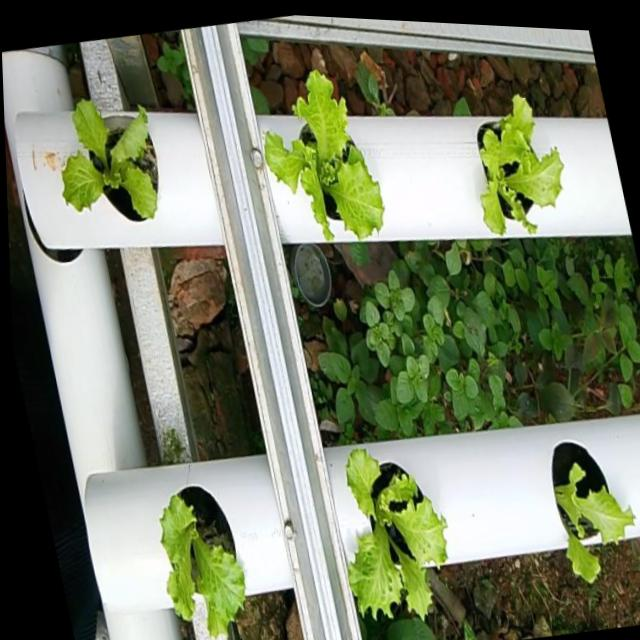Baby: (262, 73, 381, 244), (344, 451, 446, 633), (159, 489, 244, 640), (60, 103, 156, 227), (475, 96, 559, 235), (549, 441, 631, 582)
